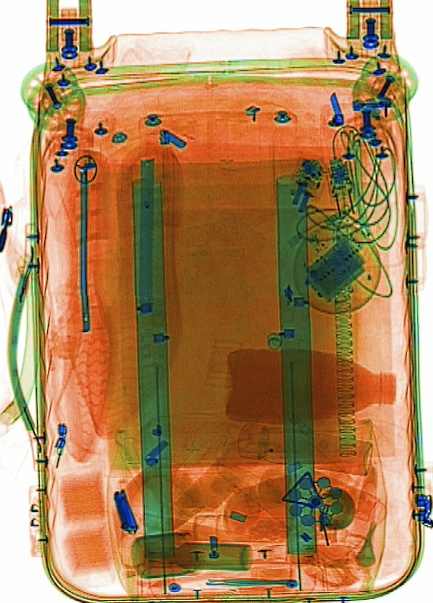pressure: (237, 422, 373, 476)
